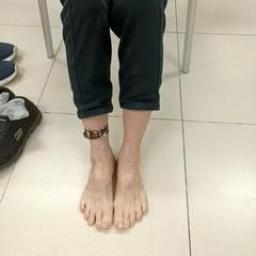Dorsal View -Both Feet-: (54, 125, 168, 245)
